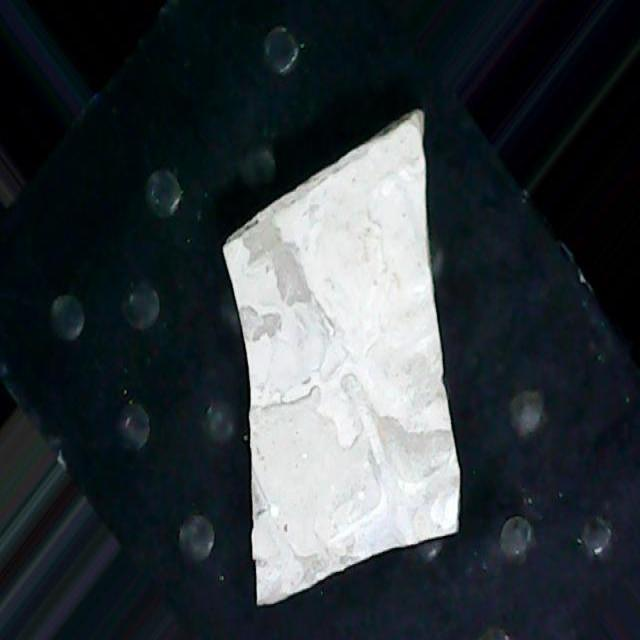-Other waste - ceramic-: (220, 106, 464, 608)
